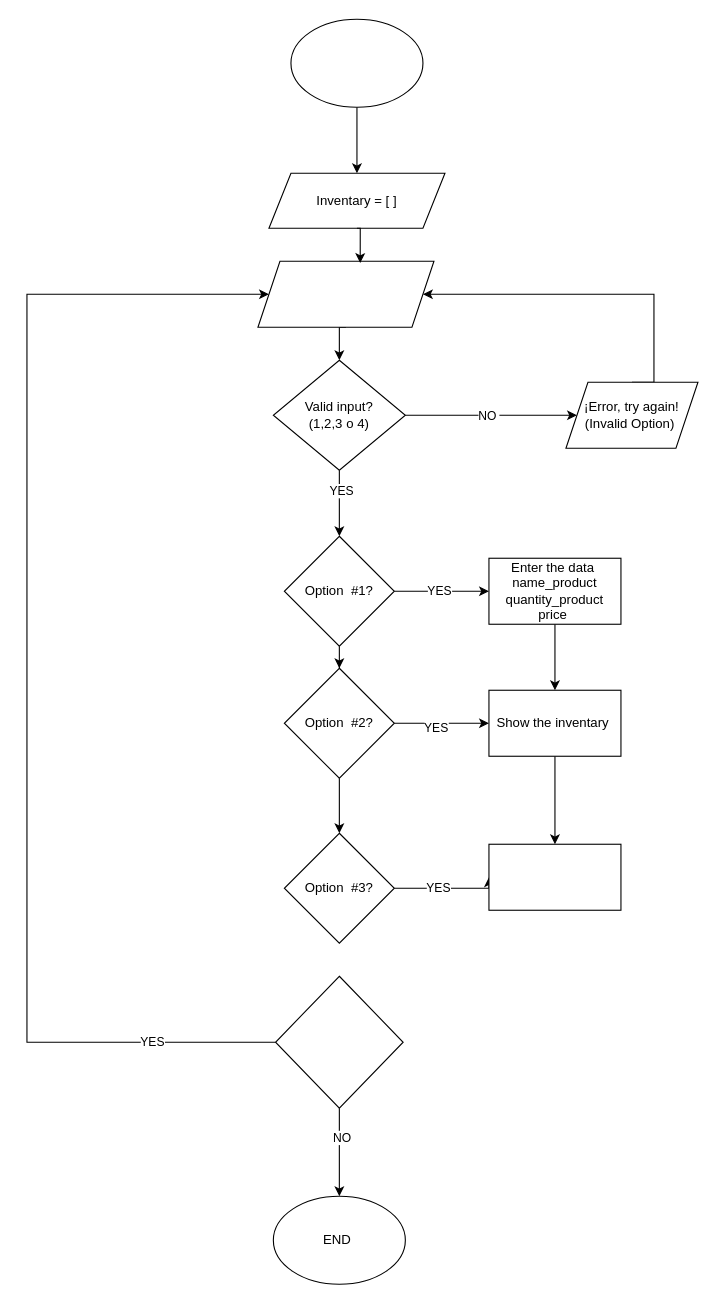
This 717x1304 diagram has some shape labels left out. The centre of each missing label's shape, as x and y in pixels:
Calculate stadistic: (554,876)
Do add another product ?: (338,1041)
Show the menu (diferents options 1-4): (345,293)
START: (356,62)
